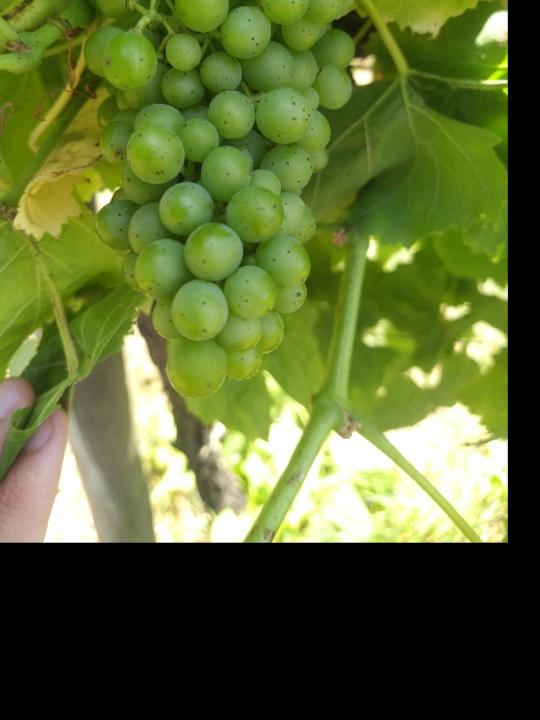grape: (80, 0, 403, 402)
